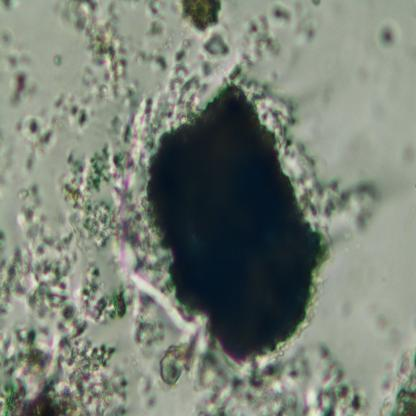Background material: (0, 202, 132, 416), (189, 354, 416, 415), (63, 120, 148, 235), (20, 68, 101, 172), (57, 2, 134, 108), (304, 164, 379, 237), (231, 5, 290, 82), (132, 308, 190, 385), (0, 29, 39, 108), (181, 0, 233, 56), (144, 2, 168, 41), (291, 10, 315, 48), (131, 49, 170, 72), (378, 20, 402, 52), (0, 0, 27, 17)
Fragment: (143, 82, 325, 362)
